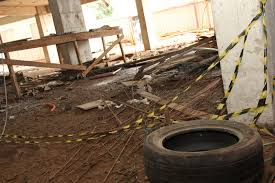tire: (141, 117, 264, 183)
